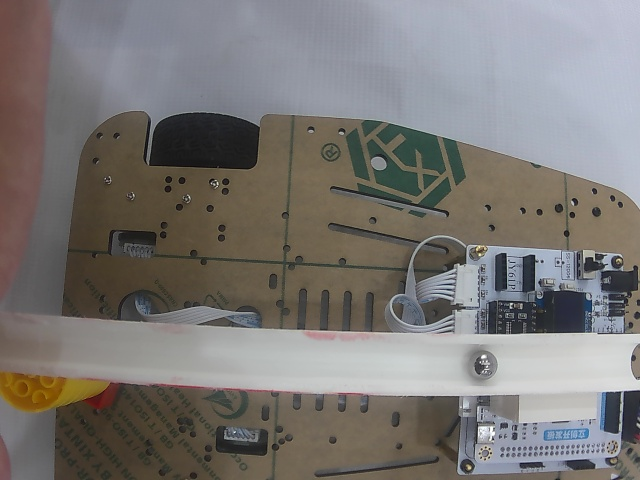steelball: (467, 349, 498, 380)
